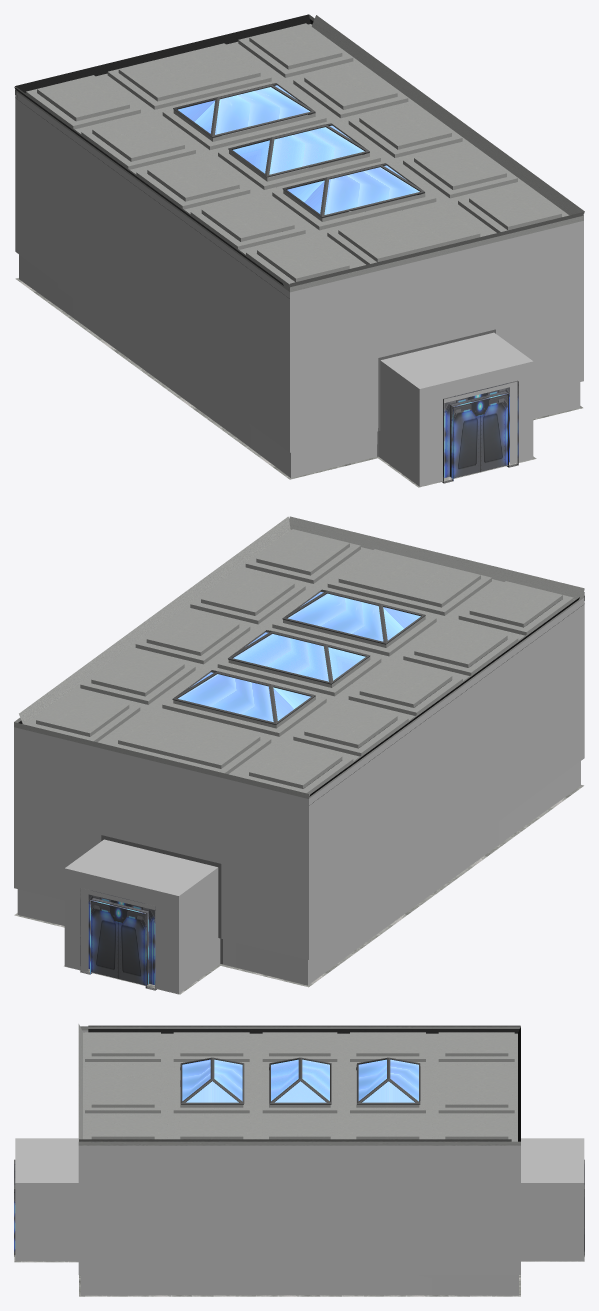
The model's file is Museum Room.fbx.
3 renders of one model, top to bottom at view 1: azimuth 30°, elevation 25°; view 2: azimuth 150°, elevation 25°; view 3: azimuth 270°, elevation 25°, orthographic. The views are drawn at different scales.
Visible parts, largest first — view 1: hall1_walls__3_; view 2: hall1_walls__3_; view 3: hall1_walls__3_.
Part boxes in pixels (x1=…): hall1_walls__3_: x1=14, y1=14, x2=584, y2=487; hall1_walls__3_: x1=14, y1=516, x2=584, y2=994; hall1_walls__3_: x1=14, y1=1024, x2=584, y2=1296.
Size of the model in its own units: 1009 by 697 by 2091.
